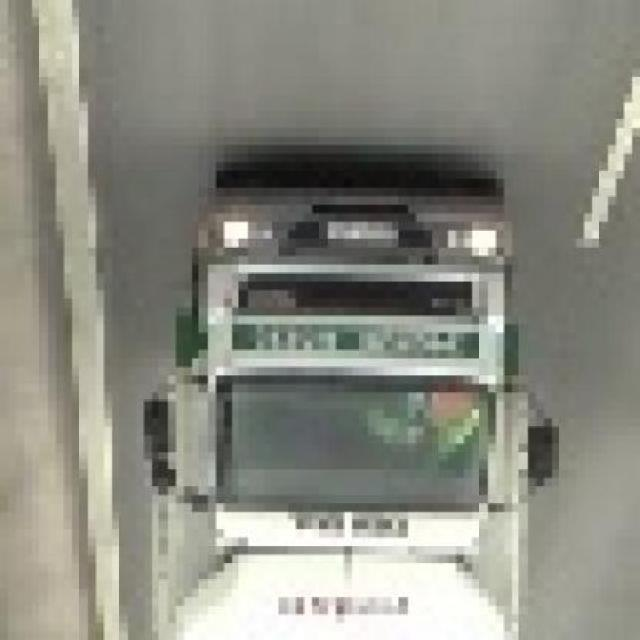truck: (145, 172, 569, 640)
